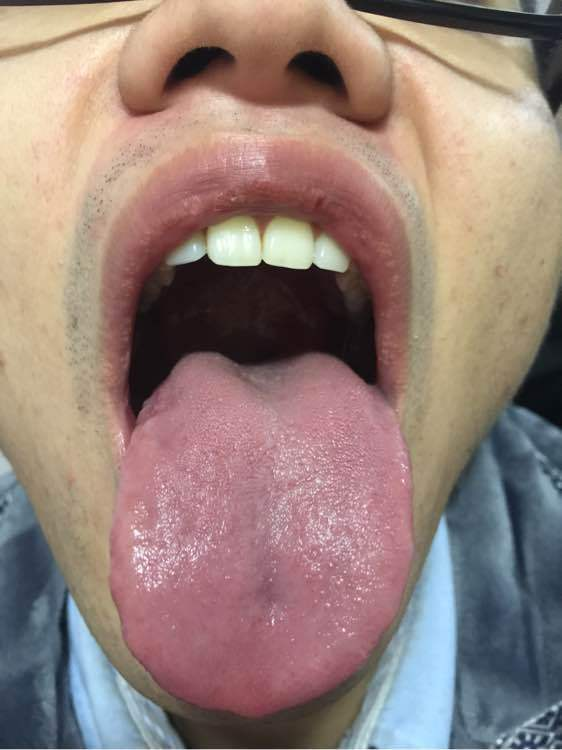baitaishe: (111, 351, 415, 717)
piweiao: (225, 563, 315, 657)
shenquao: (201, 351, 329, 395)
